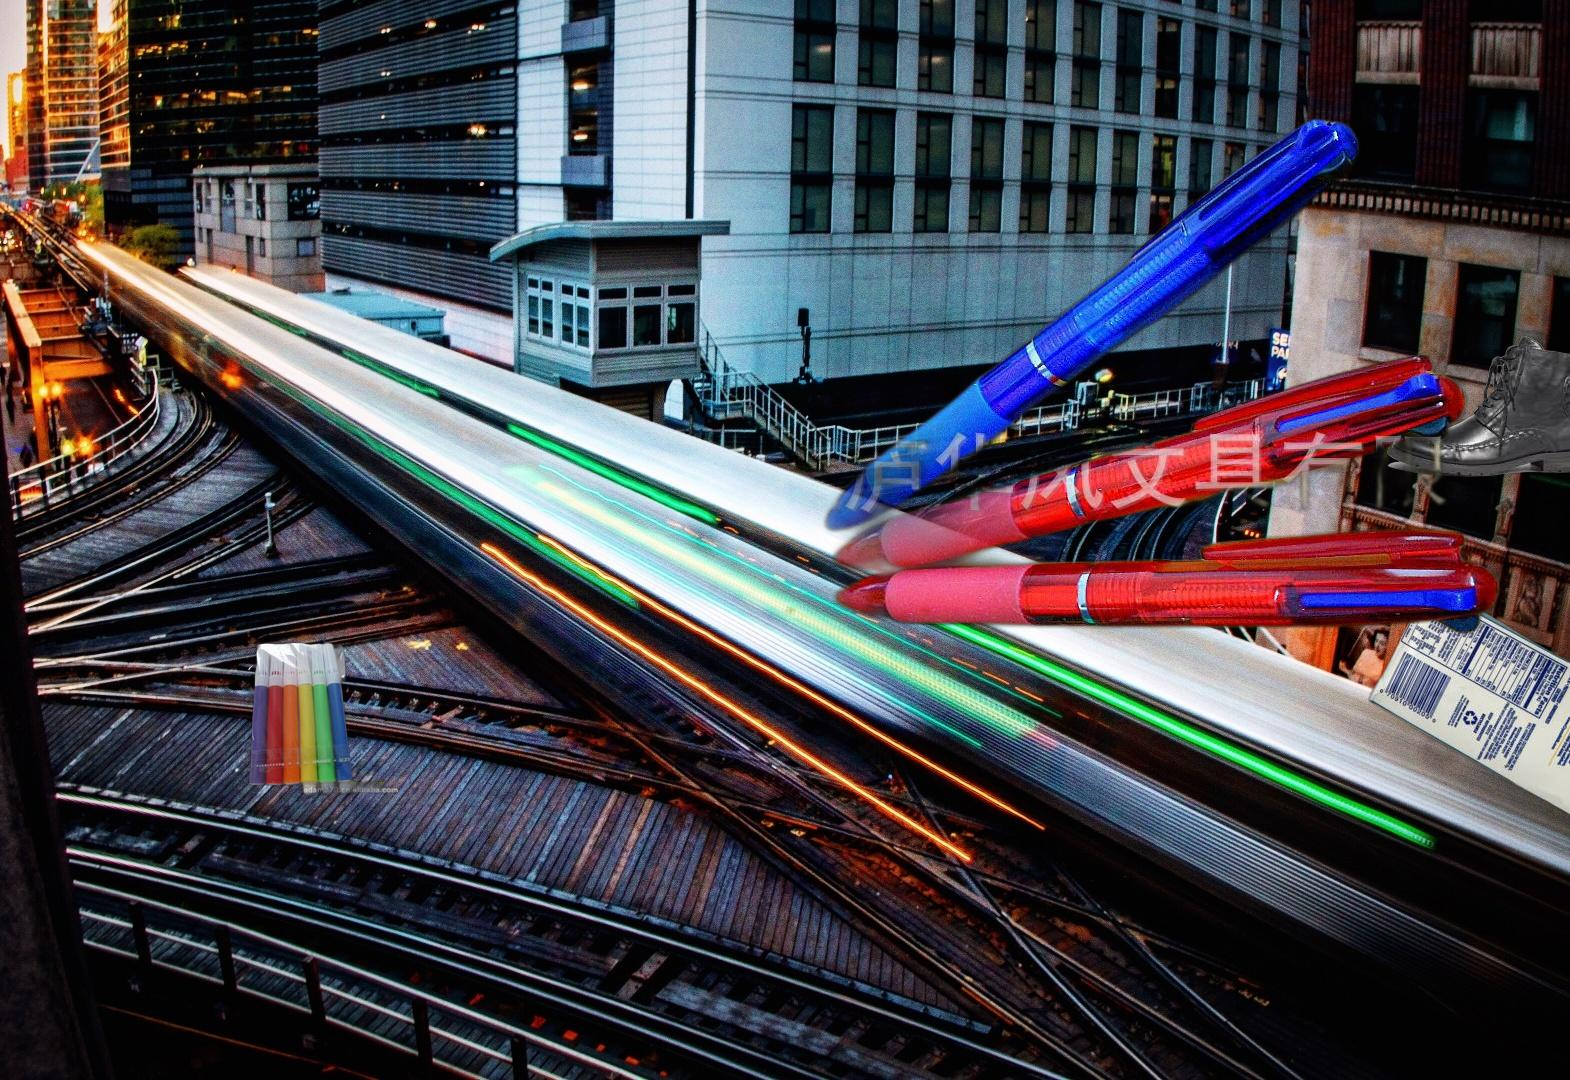paper: (1365, 581, 1570, 837)
penholder: (817, 112, 1509, 638), (236, 638, 402, 800)
shoes: (1384, 333, 1570, 479)
